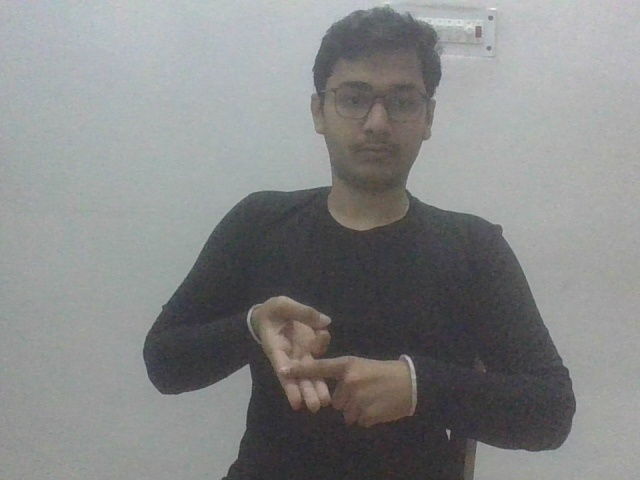E: (247, 294, 419, 428)
